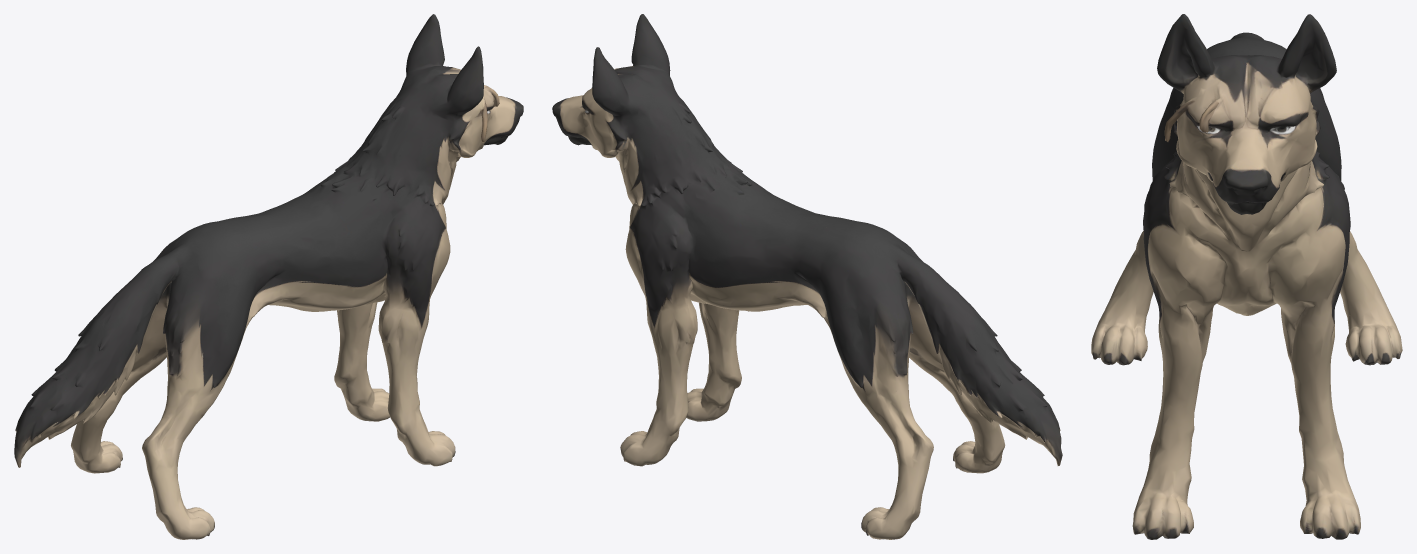
Rendered from john.glb.
3 renders of one model, left to right at view 1: azimuth 30°, elevation 25°; view 2: azimuth 150°, elevation 25°; view 3: azimuth 270°, elevation 25°, orthographic. The views are drawn at different scales.
Visible parts, largest first — view 1: tripo_node_64095e79-f55b-40f2-ade0-f50f23cc015c; view 2: tripo_node_64095e79-f55b-40f2-ade0-f50f23cc015c; view 3: tripo_node_64095e79-f55b-40f2-ade0-f50f23cc015c.
Part boxes in pixels (left/top/right/bottom): tripo_node_64095e79-f55b-40f2-ade0-f50f23cc015c: left=14, top=14, right=523, bottom=539; tripo_node_64095e79-f55b-40f2-ade0-f50f23cc015c: left=552, top=14, right=1062, bottom=539; tripo_node_64095e79-f55b-40f2-ade0-f50f23cc015c: left=1091, top=14, right=1402, bottom=539.
Bounding box in the file's own units: 1 × 0.7418 × 0.3777.
Materials: 1 (1 with a texture image).
